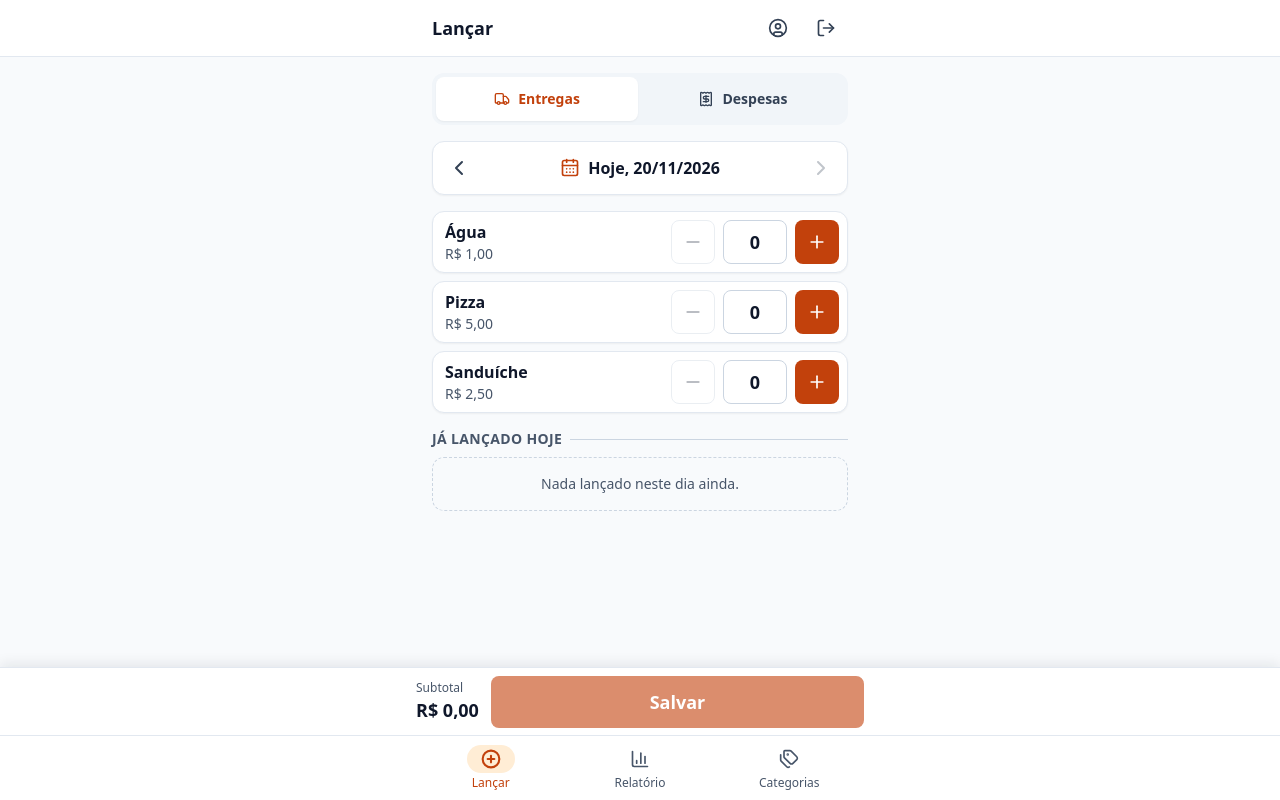
LancamentosPage › se o insert falhar, mostra erro e mantém os valores digitados
This screenshot has width=1280, height=800.
Replace the text in the field named "Sanduíche" in the row of "Sanduíche" with "50": (755,382) [723,360,787,404]
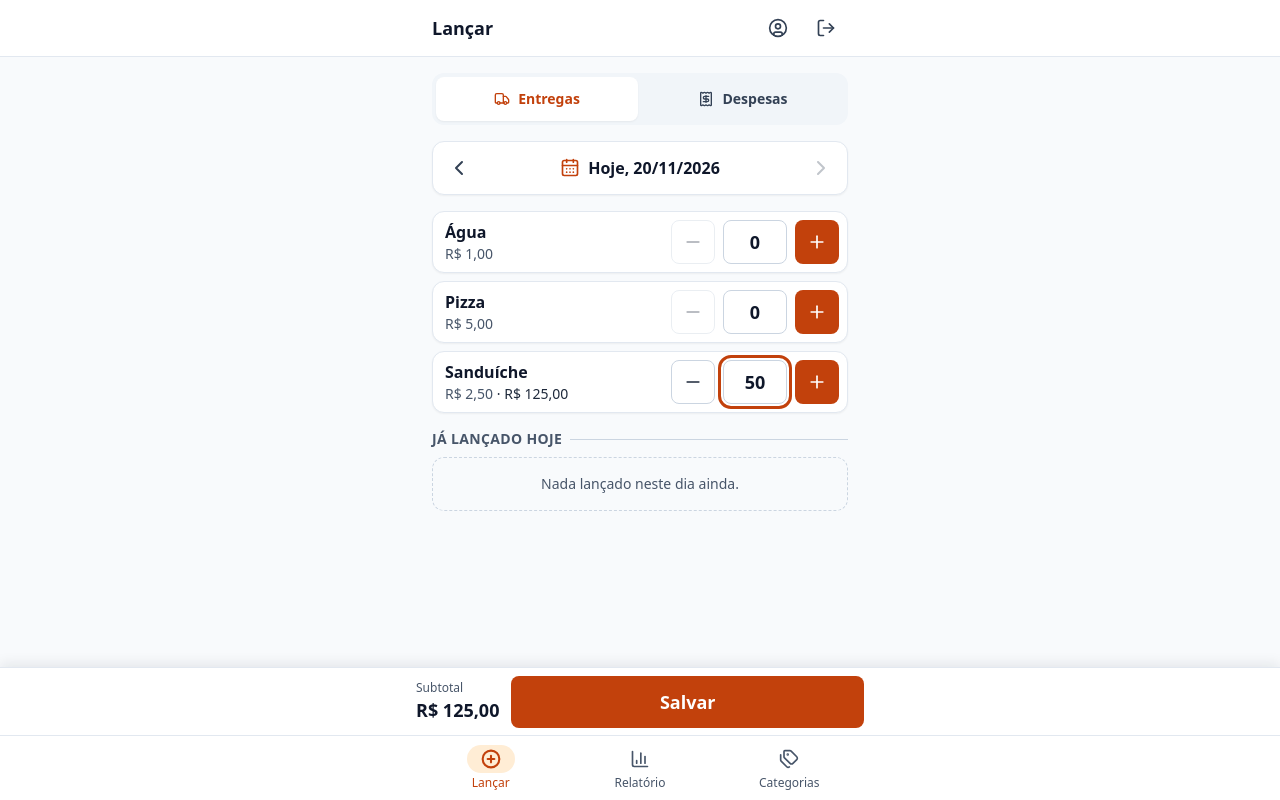
Replace the text in the field named "Pizza" in the row of "Pizza" with "20": (755,312) [723,290,787,334]
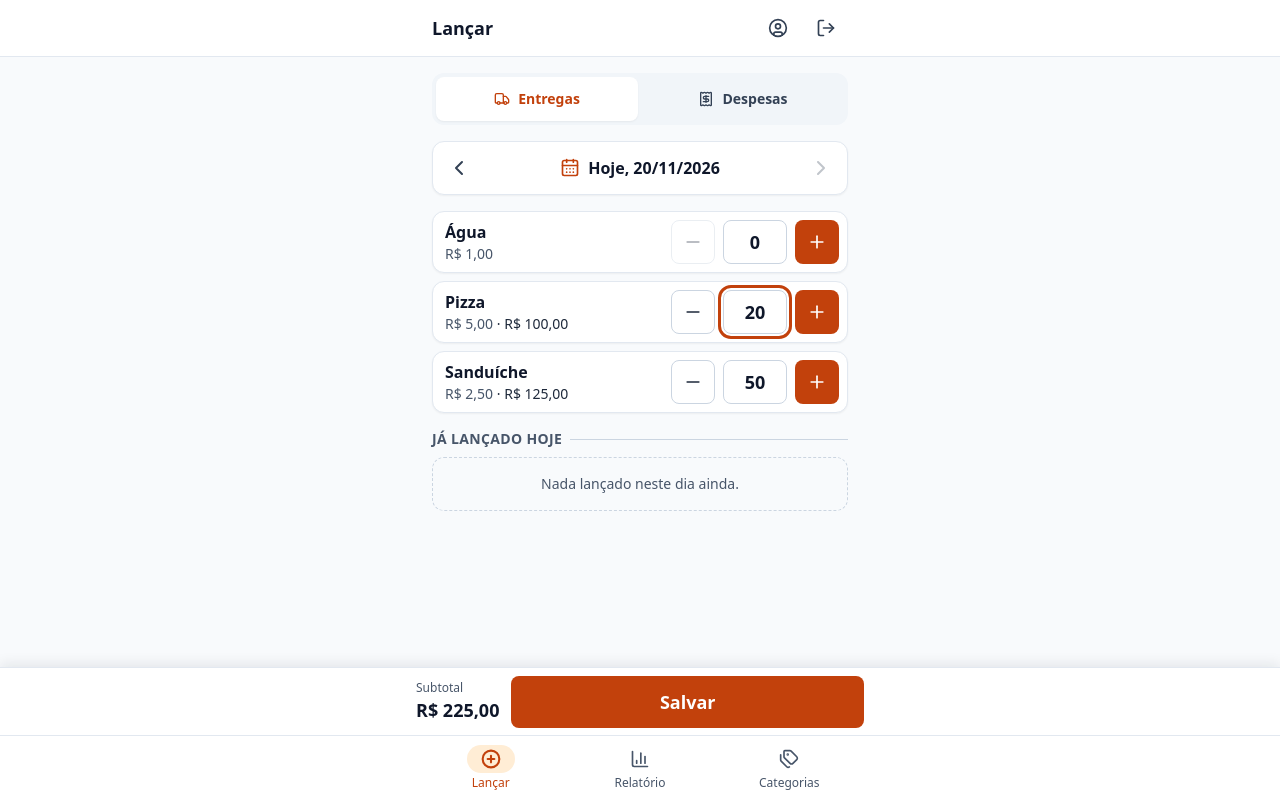
Expected: the text "Nada lançado neste dia ainda." is shown, [432,457,848,511]
Click the button "Salvar": (688,702) [512,676,864,728]
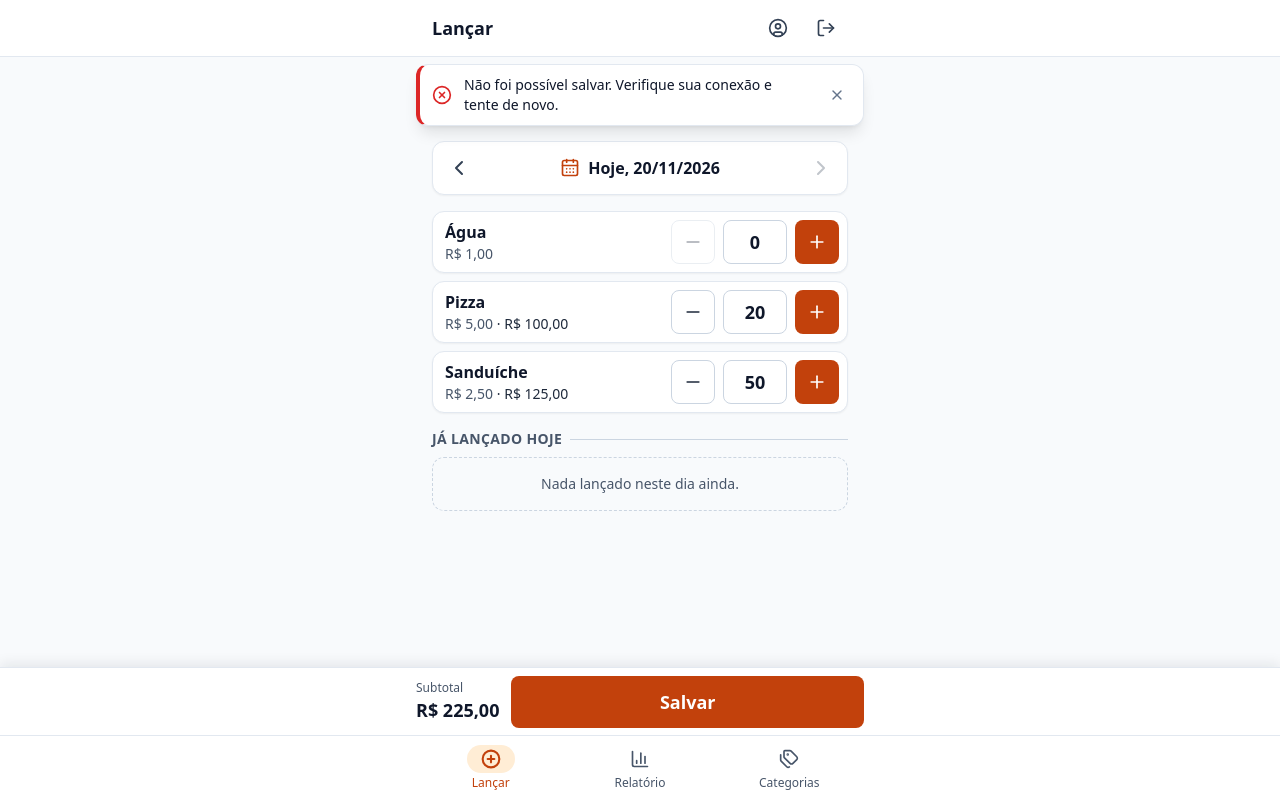
Expected: the text with test id "subtotal" reads "R$ 225,00", [416,698,500,722]
Expected: the button "Salvar" is enabled, [512,676,864,728]
Expected: the text "Não foi possível salvar. Verifique sua conexão e tente de novo." is shown, [464,75,803,115]
